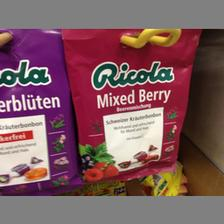Suessigkeit: (61, 29, 195, 179), (0, 27, 74, 192)
